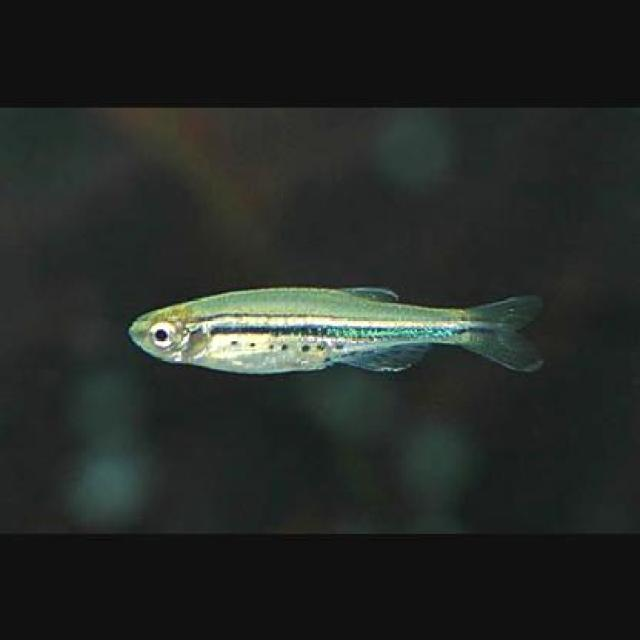ZebraFish: (132, 285, 546, 377)
